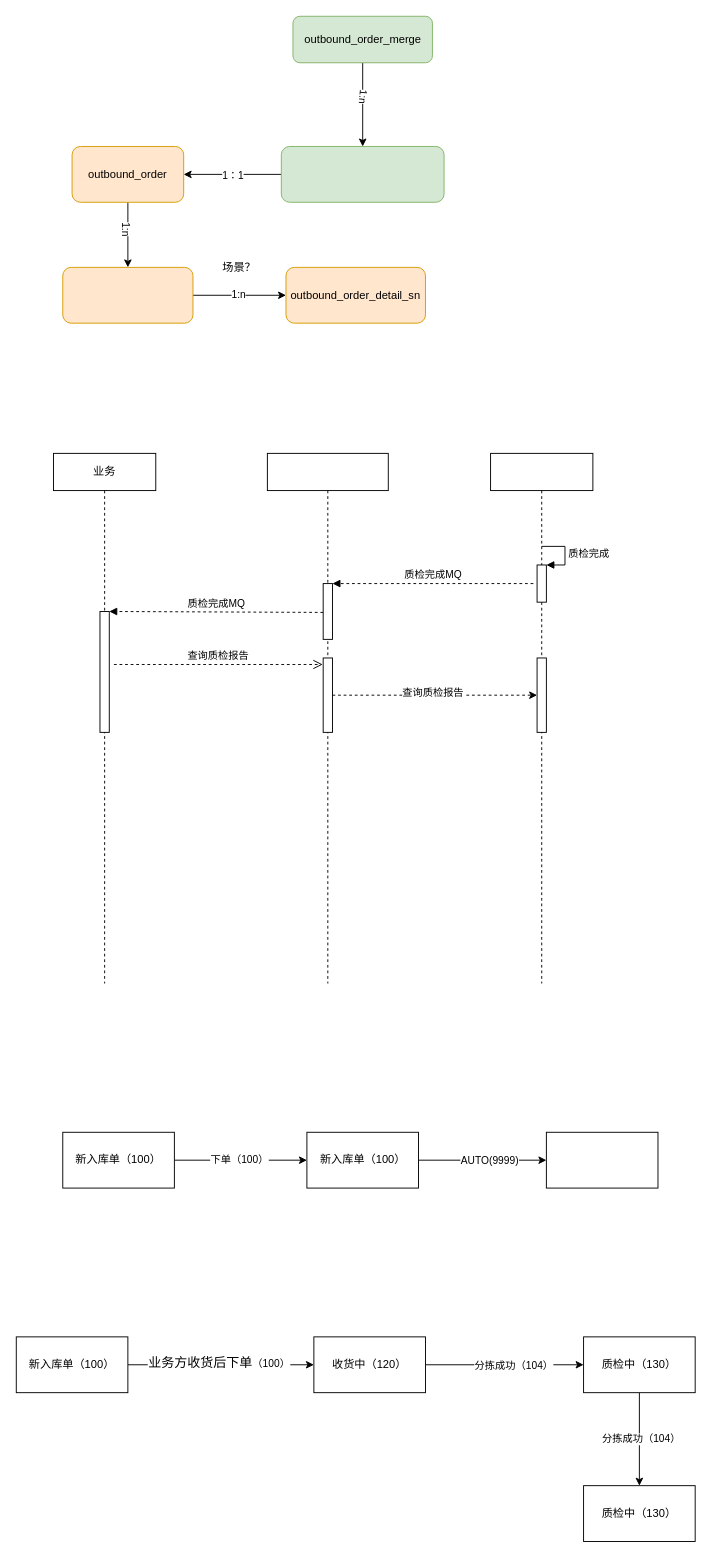
Some shapes in this 711 by 1558 pixel diagram are drawn without their labels. Each missing label, with the centre of its shape:
"OMS" goes at point (327, 717).
"outbound_order_detail" goes at point (127, 294).
"outbound_order_merge_detail" goes at point (362, 174).
"WMS" goes at point (541, 717).
"库房接收（111）" goes at point (601, 1159).
